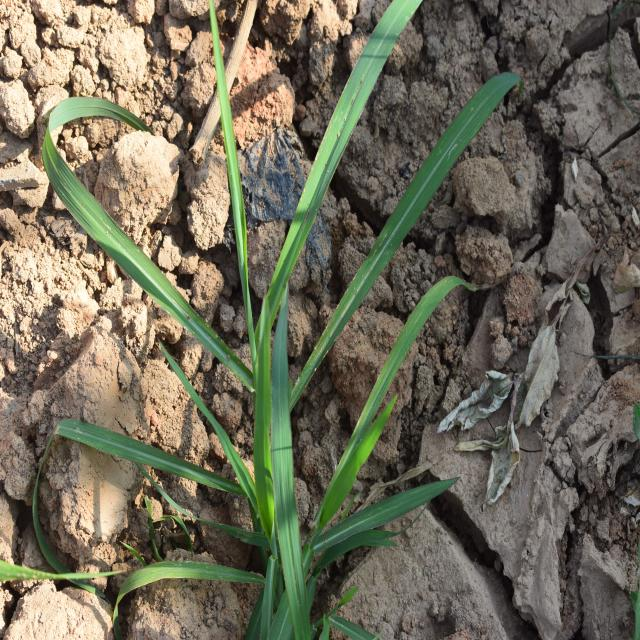green_foxtail: (70, 49, 411, 566)
